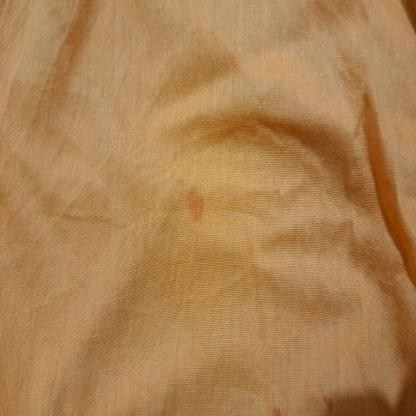spot: (189, 184, 205, 222), (173, 172, 187, 192)
